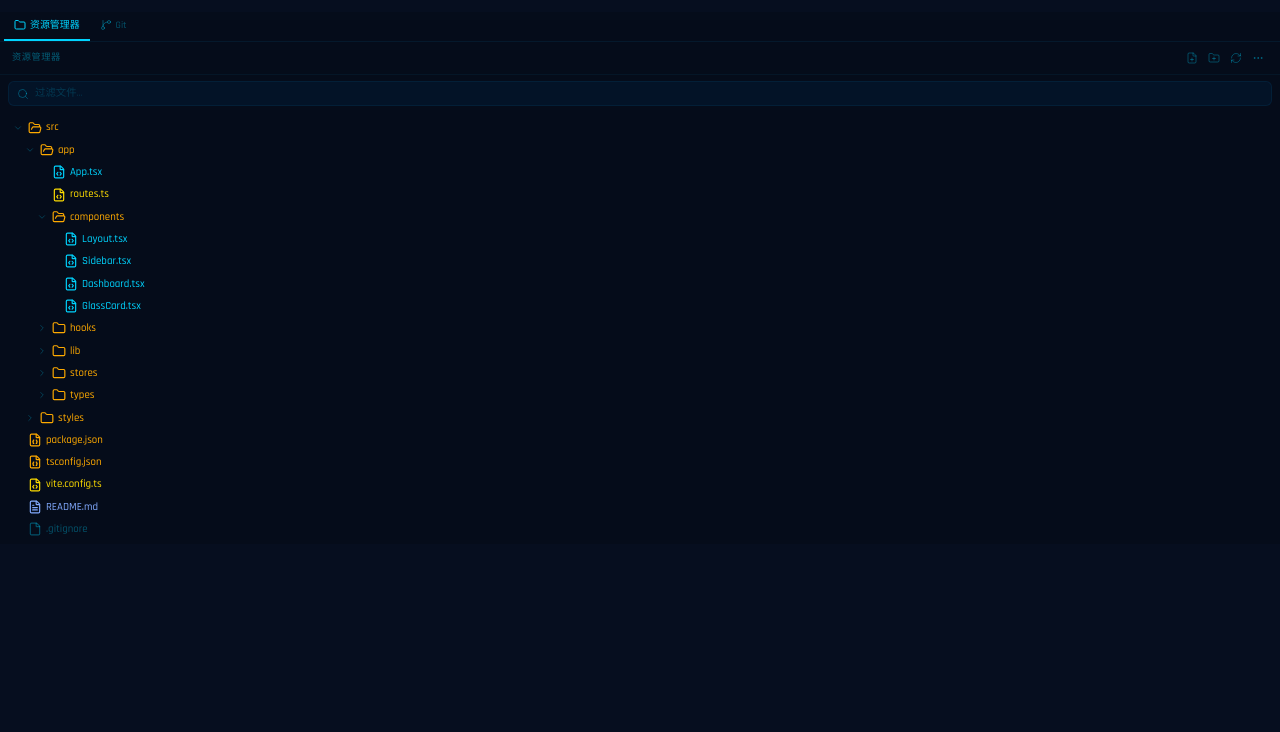
FileExplorer › 右键文件 → 上下文菜单 + 重命名动作
Right-click the button "App.tsx" at (86, 172), box [4, 161, 1276, 183]
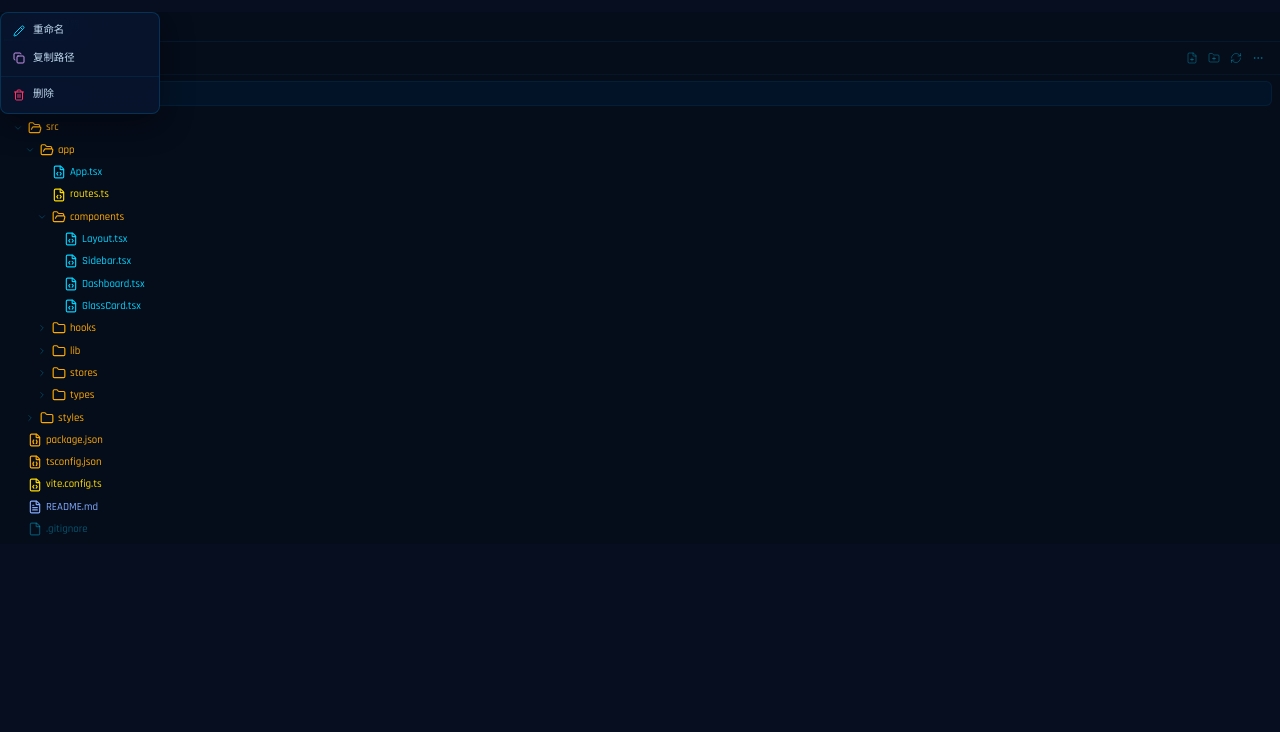
Now the text "重命名" is shown, box [33, 23, 64, 39]
Click the button "重命名". click: (80, 31)
box: [1, 17, 159, 45]
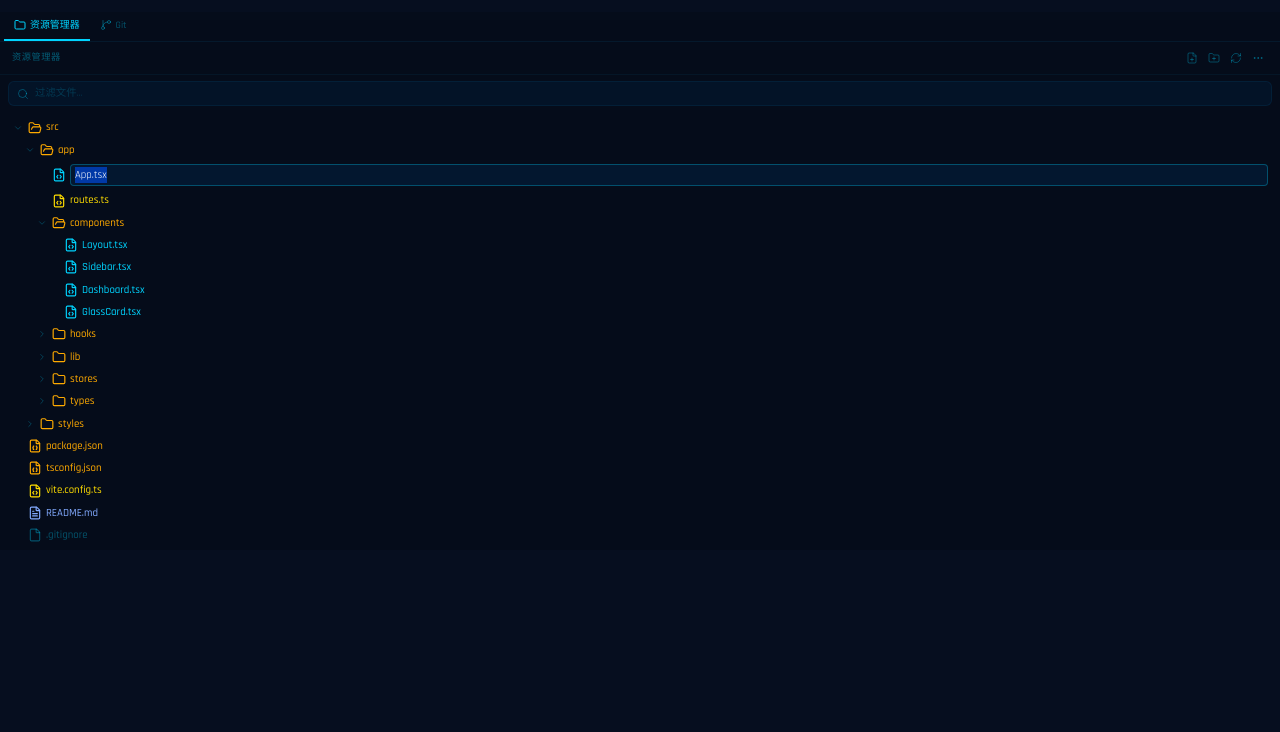
Note: InlineInput 出现（App.tsx 变为 input）
Replace the text in the 2nd field with "Main.tsx". click: (669, 175)
box: [70, 164, 1268, 186]
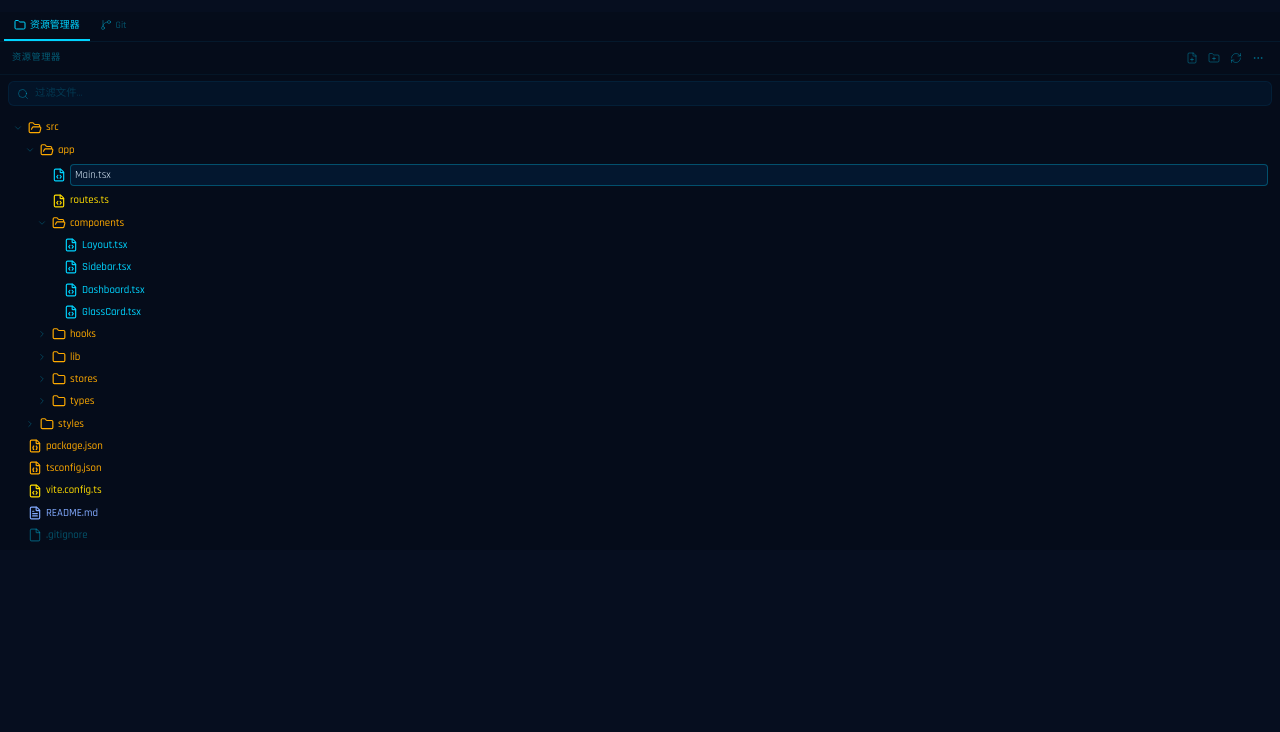
Press Enter in the 2nd field, box [70, 164, 1268, 186]
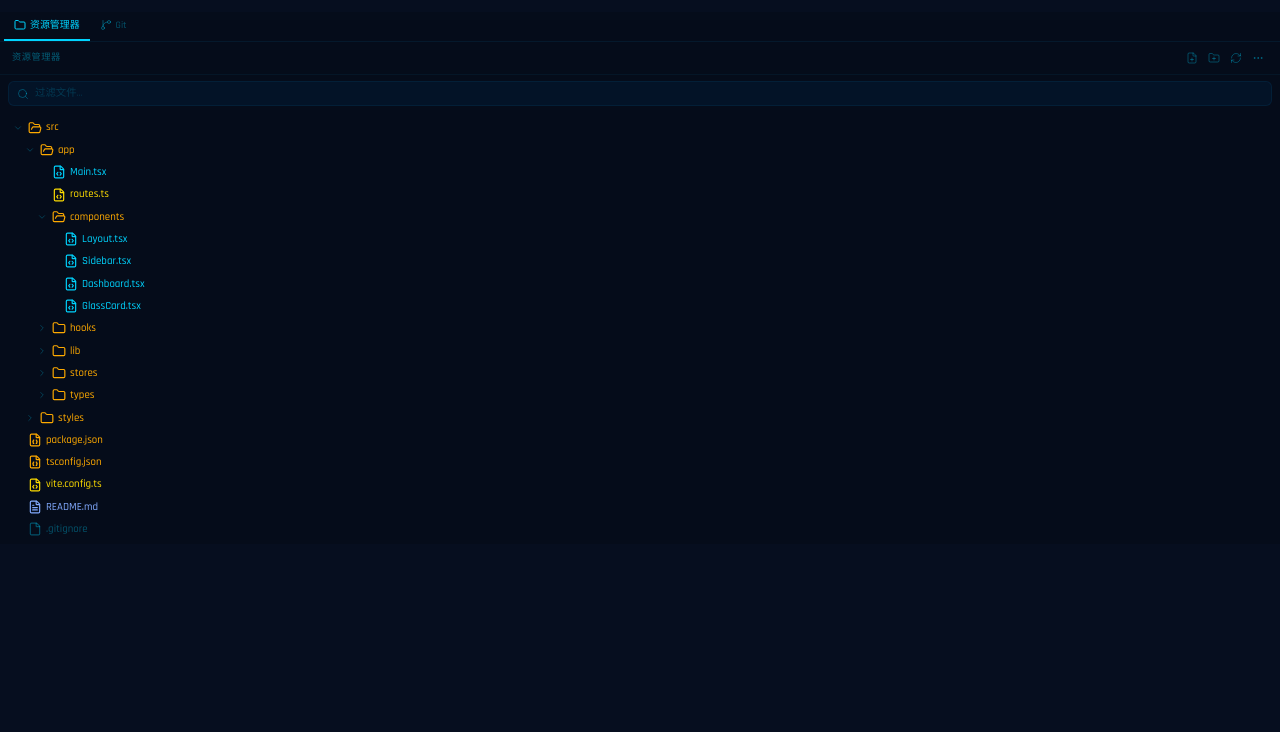
Now the text "Main.tsx" is shown, box [70, 165, 106, 179]
